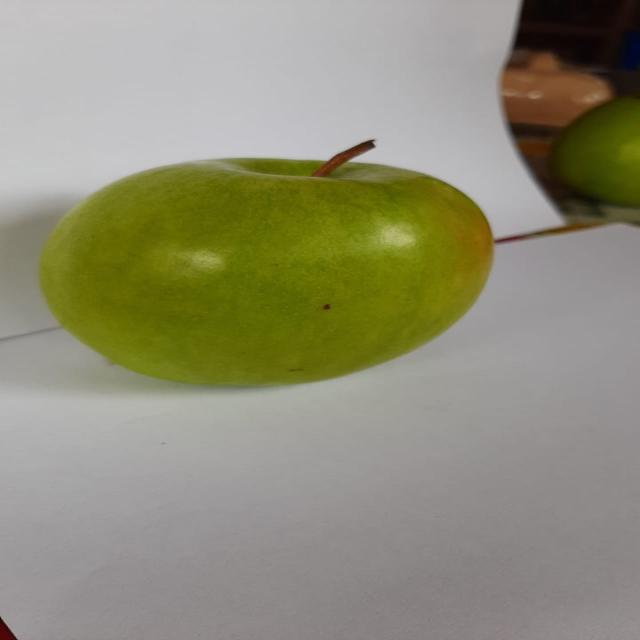50-_ripeness: (17, 131, 515, 403)
